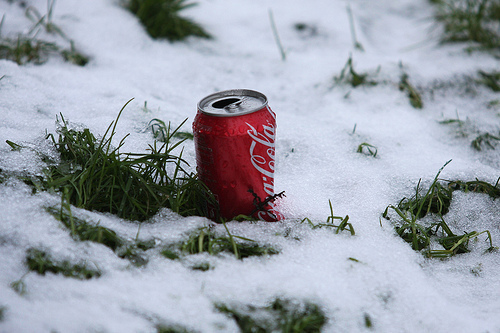litter: (195, 87, 275, 224)
